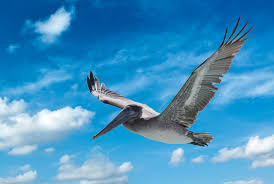pelican: (86, 16, 251, 149)
